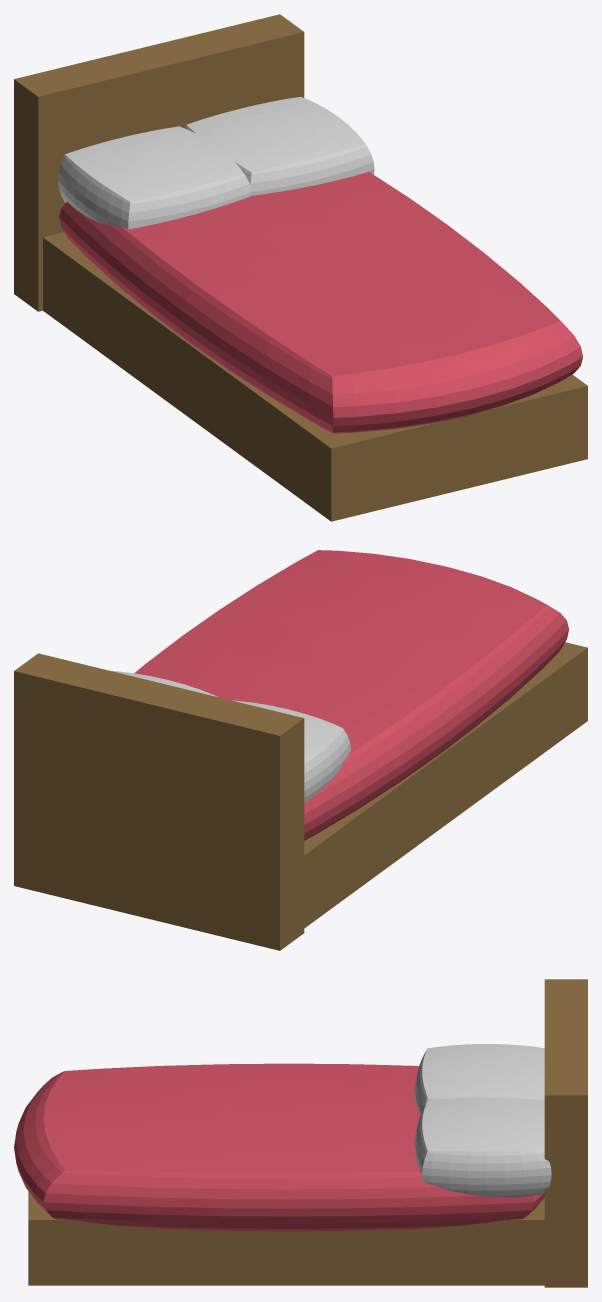
Rendered from Shiny Kup-Esboo.glb.
3 views of the same model, one above another, from view 1: azimuth 30°, elevation 25°; view 2: azimuth 150°, elevation 25°; view 3: azimuth 270°, elevation 25° (orthographic). The views are drawn at different scales.
Visible parts, largest first — view 1: Mesh_Mesh_head_geo.001_lambert2SG.001; view 2: Mesh_Mesh_head_geo.001_lambert2SG.001; view 3: Mesh_Mesh_head_geo.001_lambert2SG.001.
Part boxes in pixels (left/top/right/bottom): Mesh_Mesh_head_geo.001_lambert2SG.001: left=14, top=14, right=587, bottom=521; Mesh_Mesh_head_geo.001_lambert2SG.001: left=14, top=550, right=587, bottom=950; Mesh_Mesh_head_geo.001_lambert2SG.001: left=14, top=979, right=587, bottom=1287.
Size of the model in its own units: 0.06 by 0.044 by 0.119.
